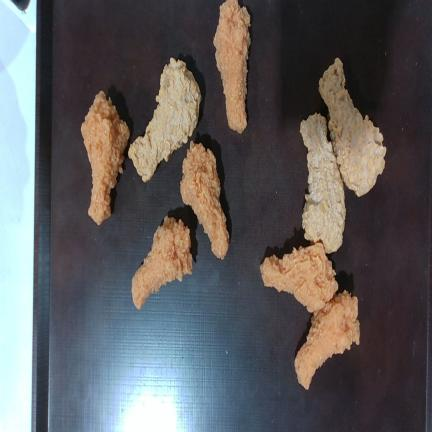chicken: (319, 58, 386, 196), (129, 58, 201, 181), (300, 113, 346, 253), (81, 91, 129, 224), (295, 290, 359, 389), (132, 216, 192, 308), (181, 142, 228, 259), (260, 242, 338, 312), (213, 0, 250, 133)
